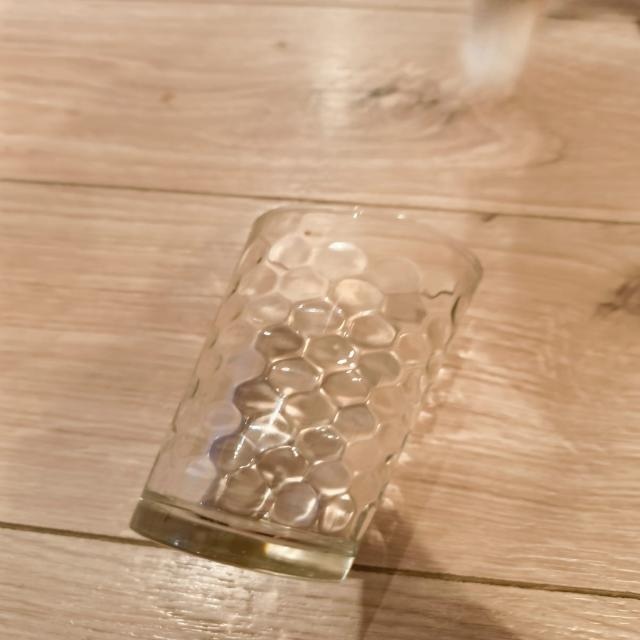ok g2: (129, 206, 486, 584)
